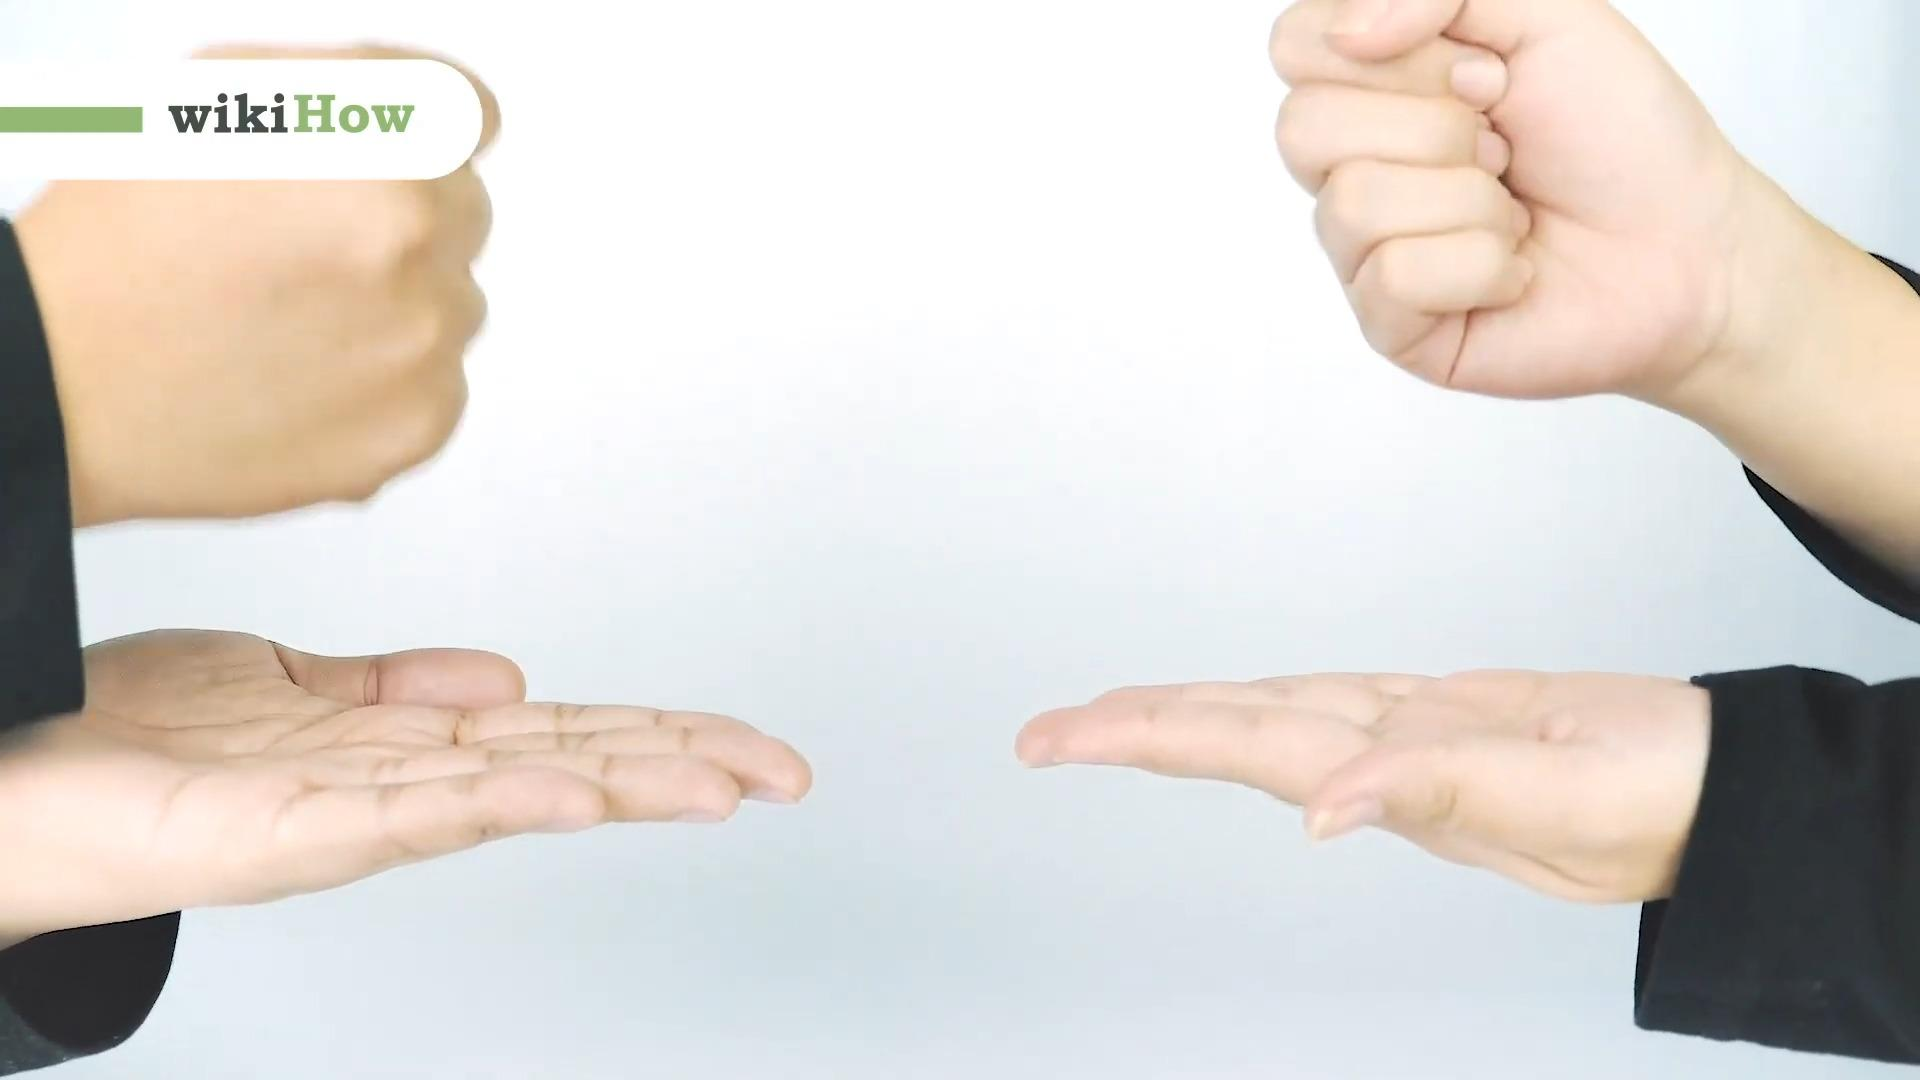Rock: (36, 45, 501, 526), (1265, 0, 1691, 405)
